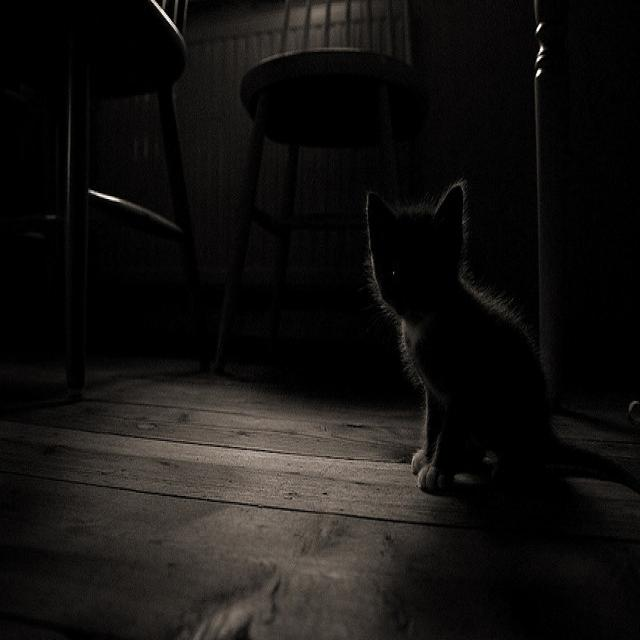Cat: (347, 173, 590, 539)
chair: (205, 23, 438, 417), (0, 0, 194, 439)
